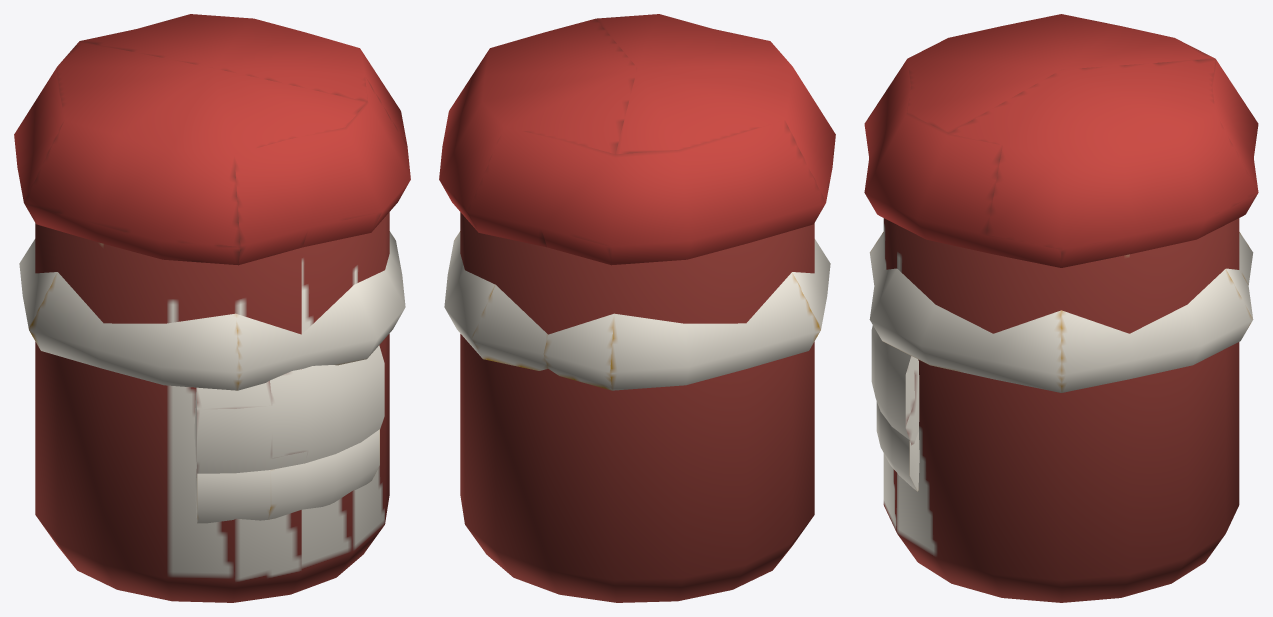
File: bocal.glb
3 renders of one model, left to right at view 1: azimuth 30°, elevation 25°; view 2: azimuth 150°, elevation 25°; view 3: azimuth 270°, elevation 25°, orthographic.
Visible parts, largest first — view 1: confiture, miel; view 2: confiture, miel; view 3: confiture, miel.
Boxes of the visible parts, x1,y1,x2,y2 form: confiture: [14, 14, 410, 602]; miel: [19, 231, 405, 523]; confiture: [439, 14, 835, 602]; miel: [444, 231, 830, 390]; confiture: [864, 14, 1258, 602]; miel: [869, 232, 1253, 491].
Bounding box in the file's own units: 0.0925 × 0.11 × 0.084.
1 material, 1 textured.
